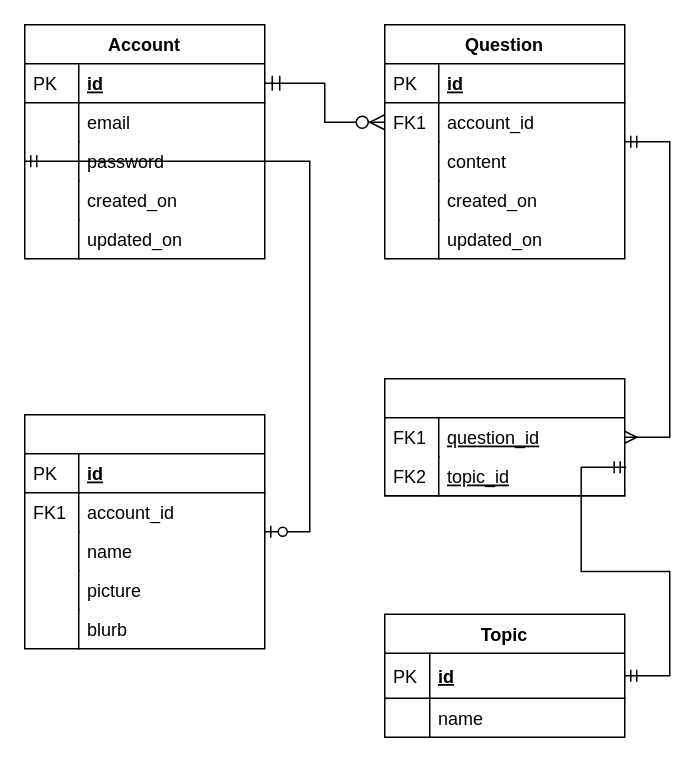
This 695x762 diagram has some shape labels left out. The box of each missing label's shape, as (x1, y1, x2, y2) in pixels:
Profile: (23, 413, 265, 649)
QuestionTopics: (383, 377, 625, 496)
